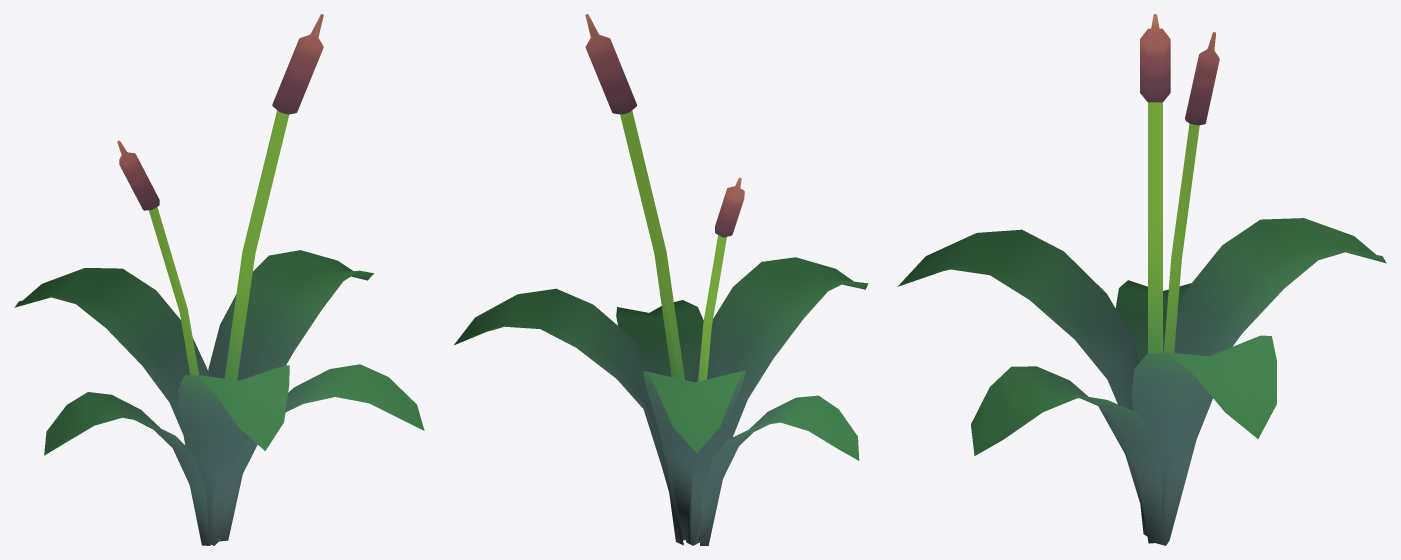
Rendered from Reeds_Mesh.fbx.
3 views of the same model, side by side, from view 1: azimuth 30°, elevation 25°; view 2: azimuth 150°, elevation 25°; view 3: azimuth 270°, elevation 25° (orthographic). The views are drawn at different scales.
Visible parts, largest first — view 1: Reeds; view 2: Reeds; view 3: Reeds.
Part boxes in pixels (x1,y1,x2,y2): Reeds: (14, 14, 424, 545); Reeds: (454, 14, 868, 545); Reeds: (897, 14, 1386, 545).
Size of the model in its own units: 1.16 by 1.52 by 1.15.
